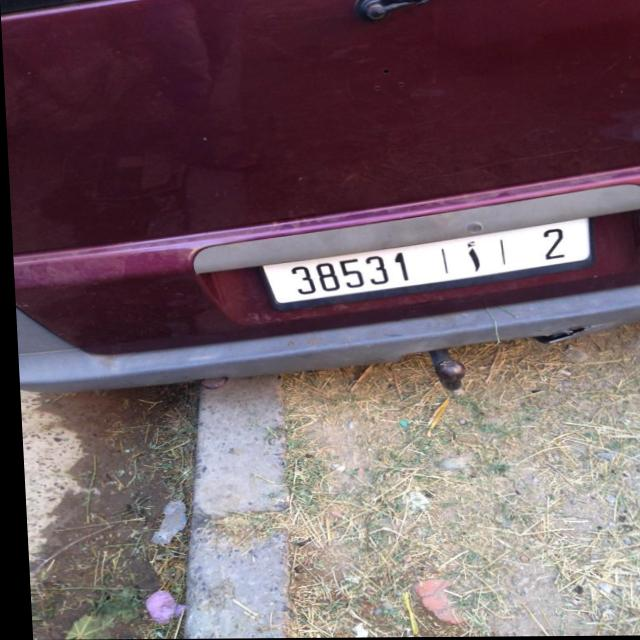License-Plate: (260, 219, 589, 308)
